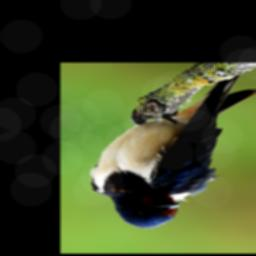Swallow: (88, 72, 256, 229)
